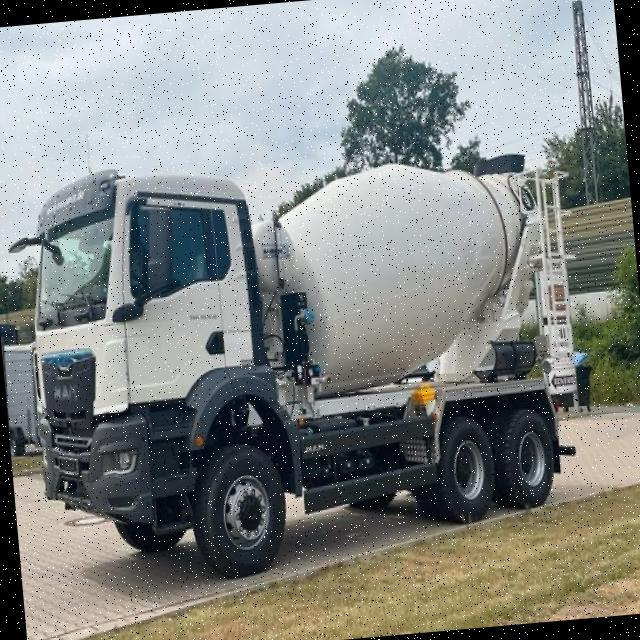Mixer Truck: (16, 128, 602, 594)
